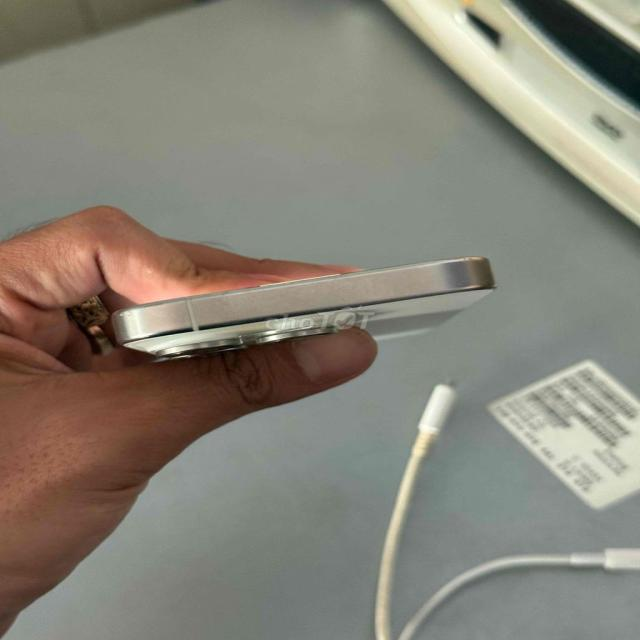gen_15: (69, 255, 534, 384)
